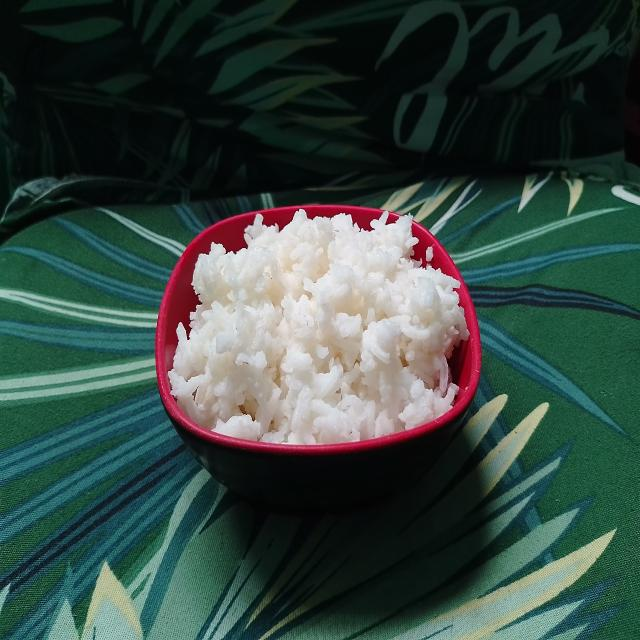Chicken -Chicken Inasal-: (170, 196, 454, 442)
